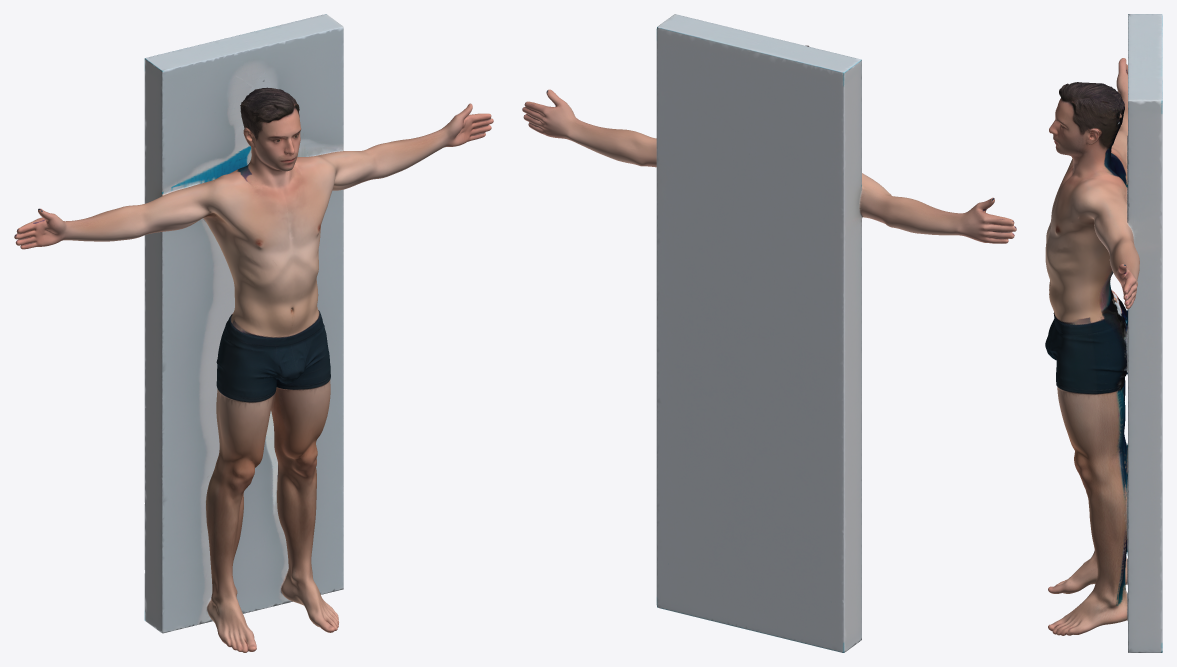
Rendered from Meshy_AI_Cruciform_Pose_Man_wi_0302105303_texture.fbx.
The picture shows the model from 3 angles, left to right: view 1: azimuth 30°, elevation 25°; view 2: azimuth 150°, elevation 25°; view 3: azimuth 270°, elevation 25°; orthographic projection. The views are drawn at different scales.
Parts seen in each view (by area): view 1: Mesh_0; view 2: Mesh_0; view 3: Mesh_0.
Boxes of the visible parts, left/top/right/bottom form: Mesh_0: left=14, top=14, right=493, bottom=652; Mesh_0: left=522, top=14, right=1016, bottom=652; Mesh_0: left=1045, top=14, right=1162, bottom=652.
Size of the model in its own units: 168 by 190 by 36.36.
Materials: 1 (1 with a texture image).
